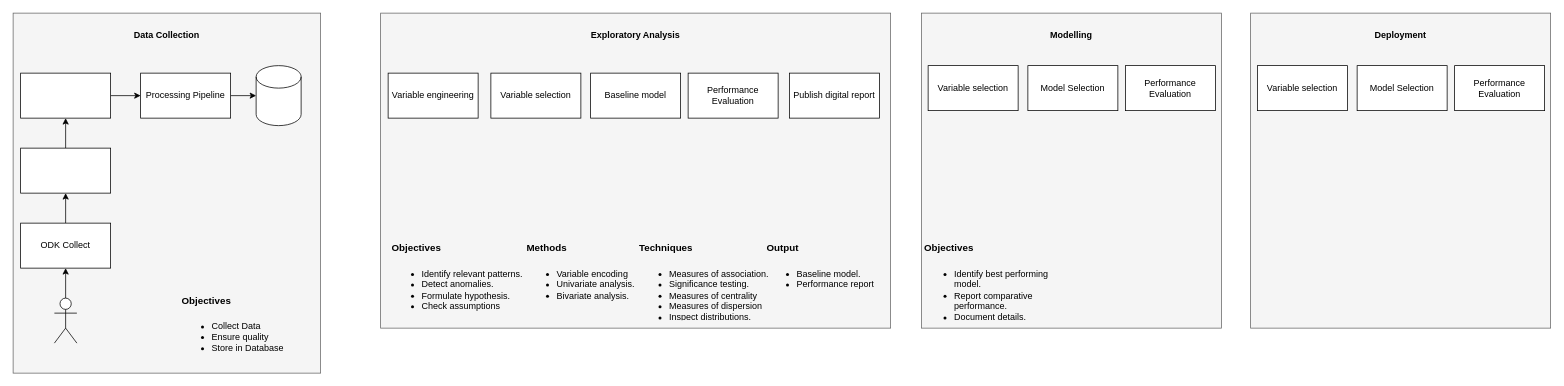
This 1564x386 diagram has some shape labels left out. Here are the shapes that lost their labels. From the top down, the centre of each, then its label:
the point at 65,95: Monitoring Dashboard
the point at 278,95: SQL Database
the point at 65,170: ODK Central
the point at 65,320: Actor
